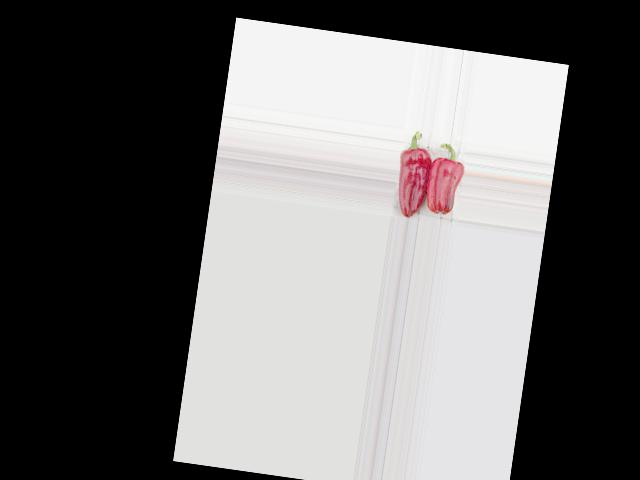bell_pepper: (392, 126, 436, 220)
